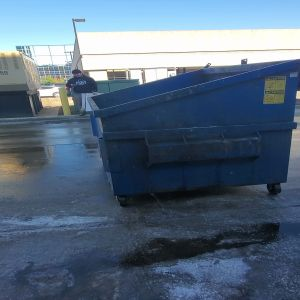Dumpster: (90, 59, 298, 208)
Person: (68, 67, 95, 93)
